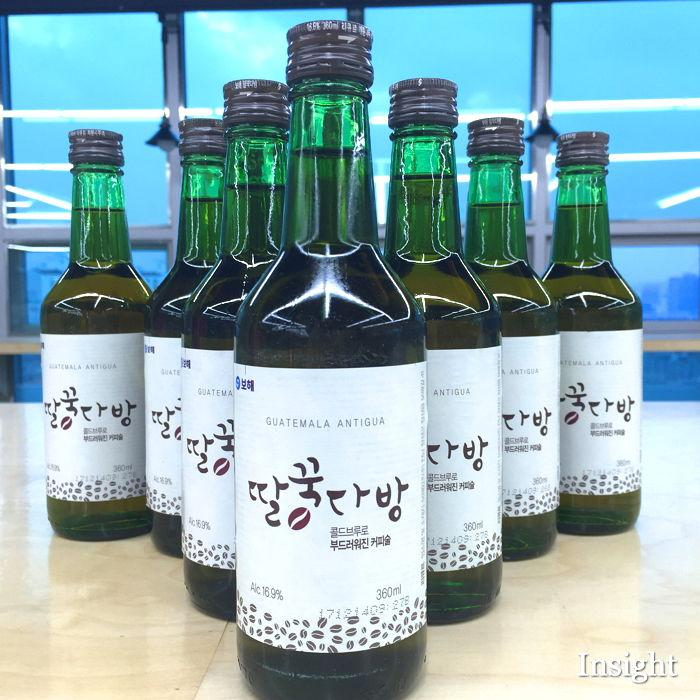soju: (39, 14, 649, 700)
